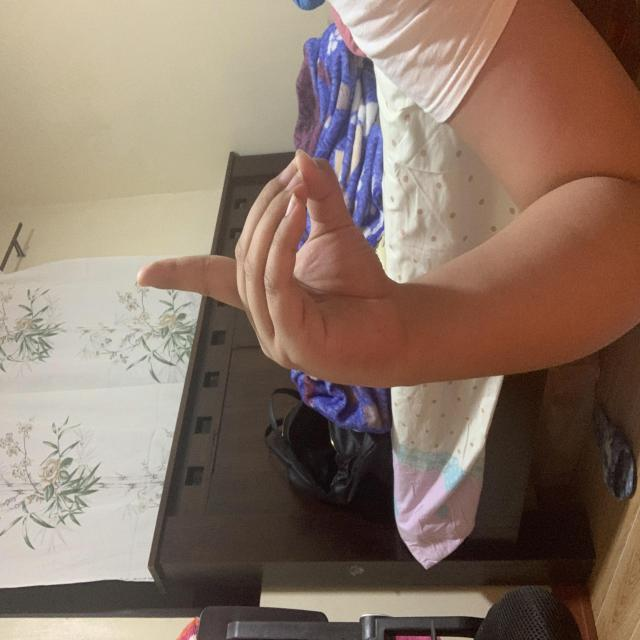D: (152, 137, 391, 399)
